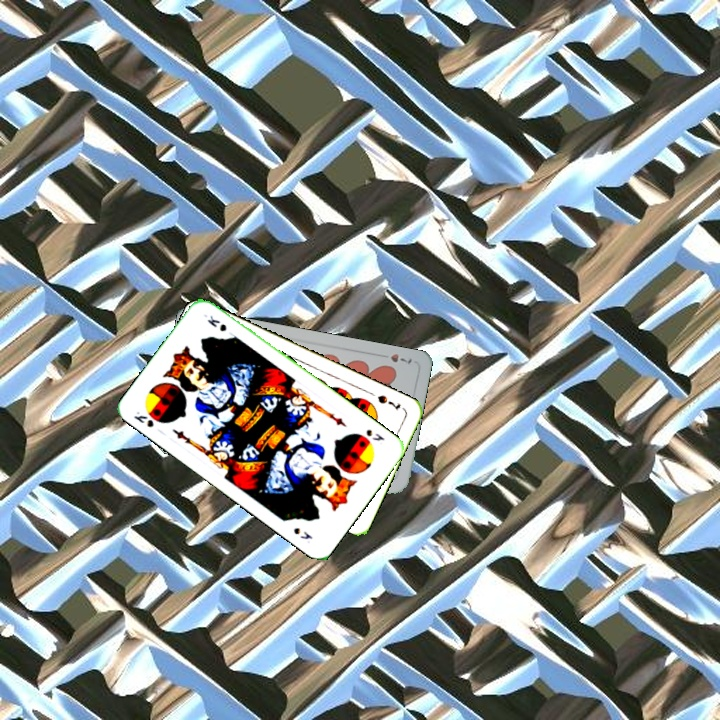H7: (376, 349, 414, 366)
S7: (373, 391, 403, 413)
SK: (130, 407, 156, 430), (362, 425, 387, 444)
